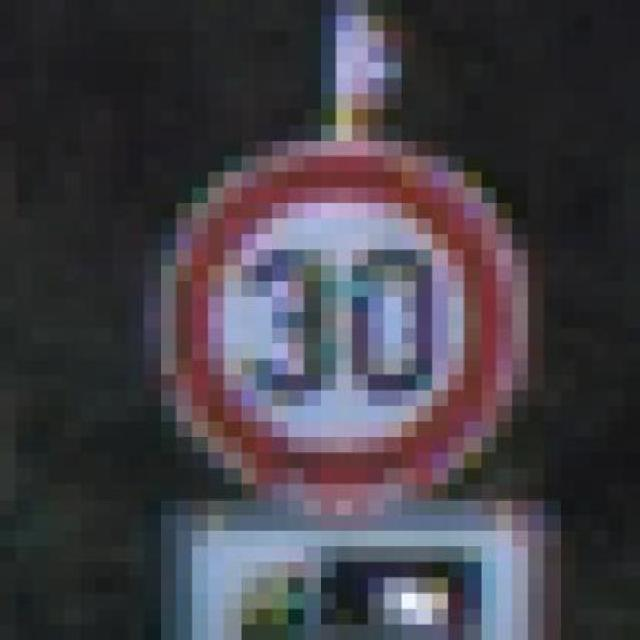Speed Limit 30 KMPh: (128, 124, 544, 530)
